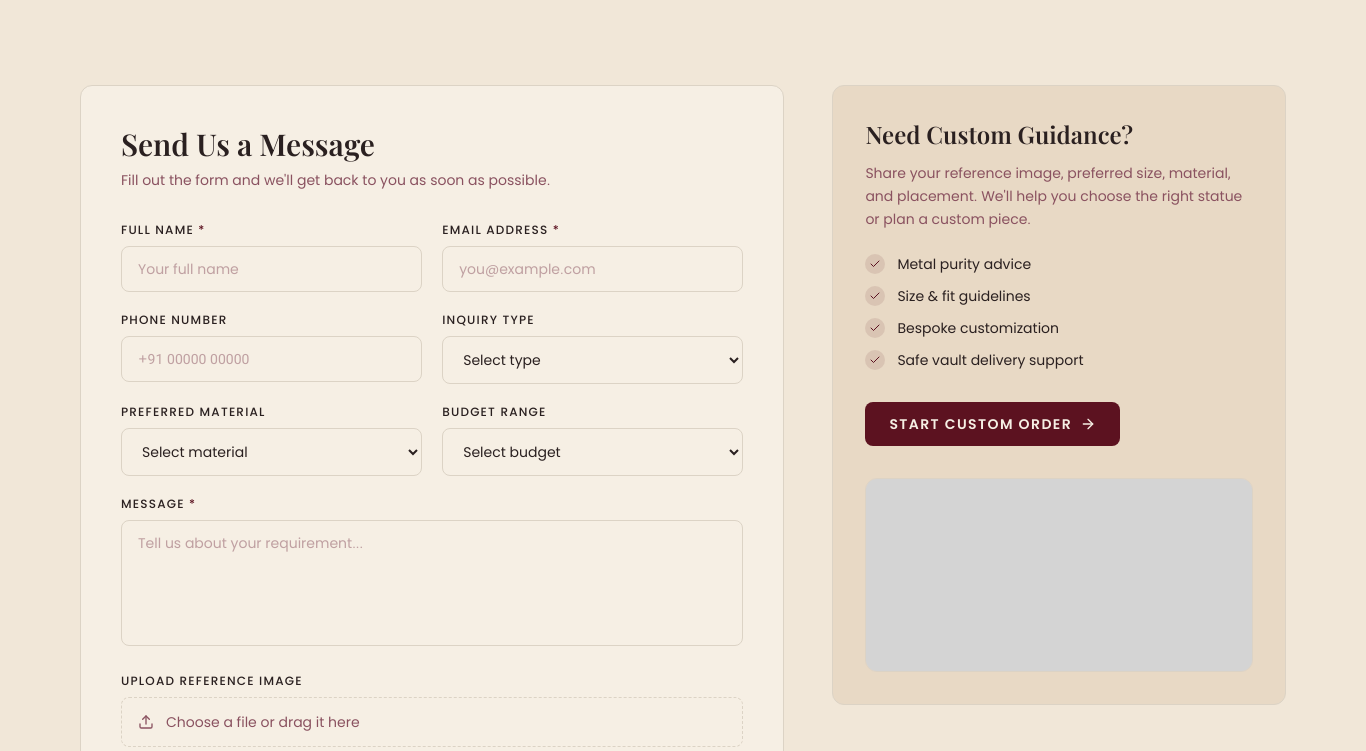
Test case: ContactForm › handles submission error and displays the error message
Type "Aswin Kumar" into the field labelled "Full Name *".
click(272, 269); type("Aswin Kumar")  # box [121, 246, 422, 292]
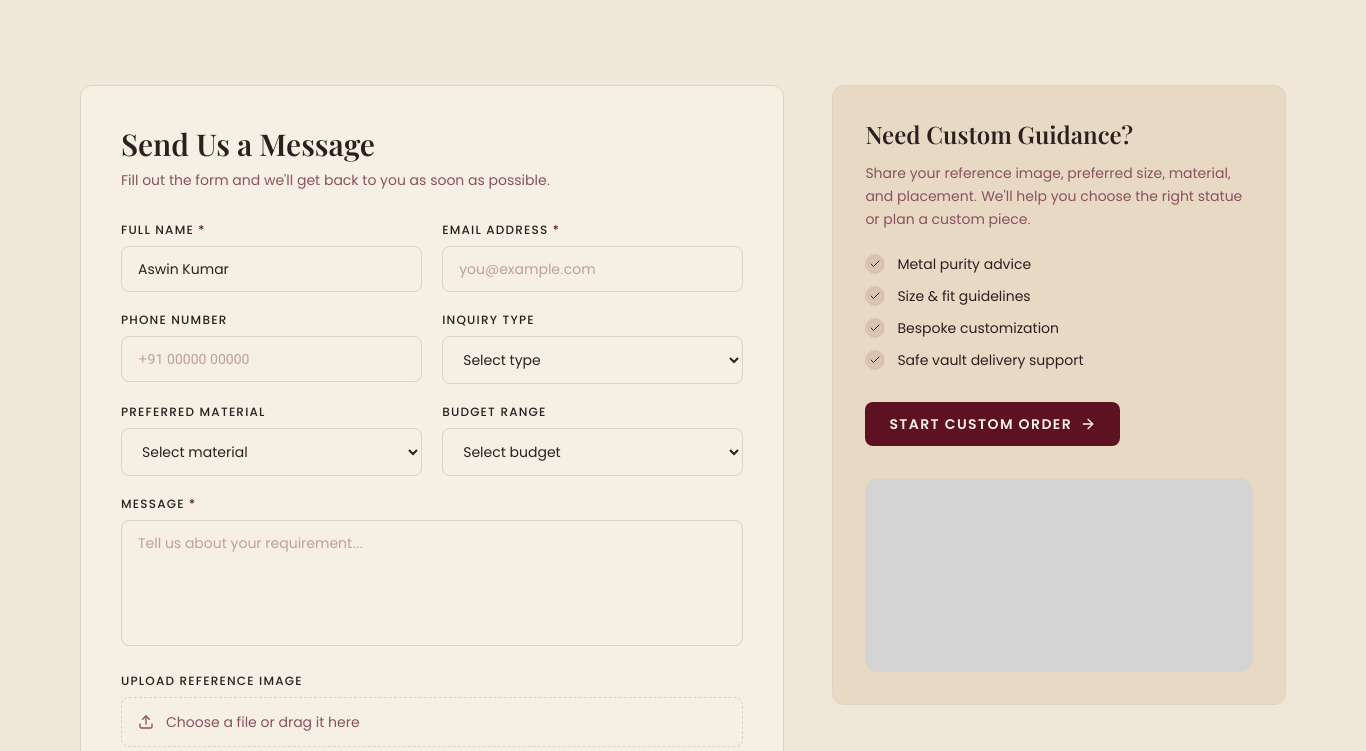
Type "aswin@example.com" into the field labelled "Email Address *".
click(593, 269); type("aswin@example.com")  # box [442, 246, 743, 292]
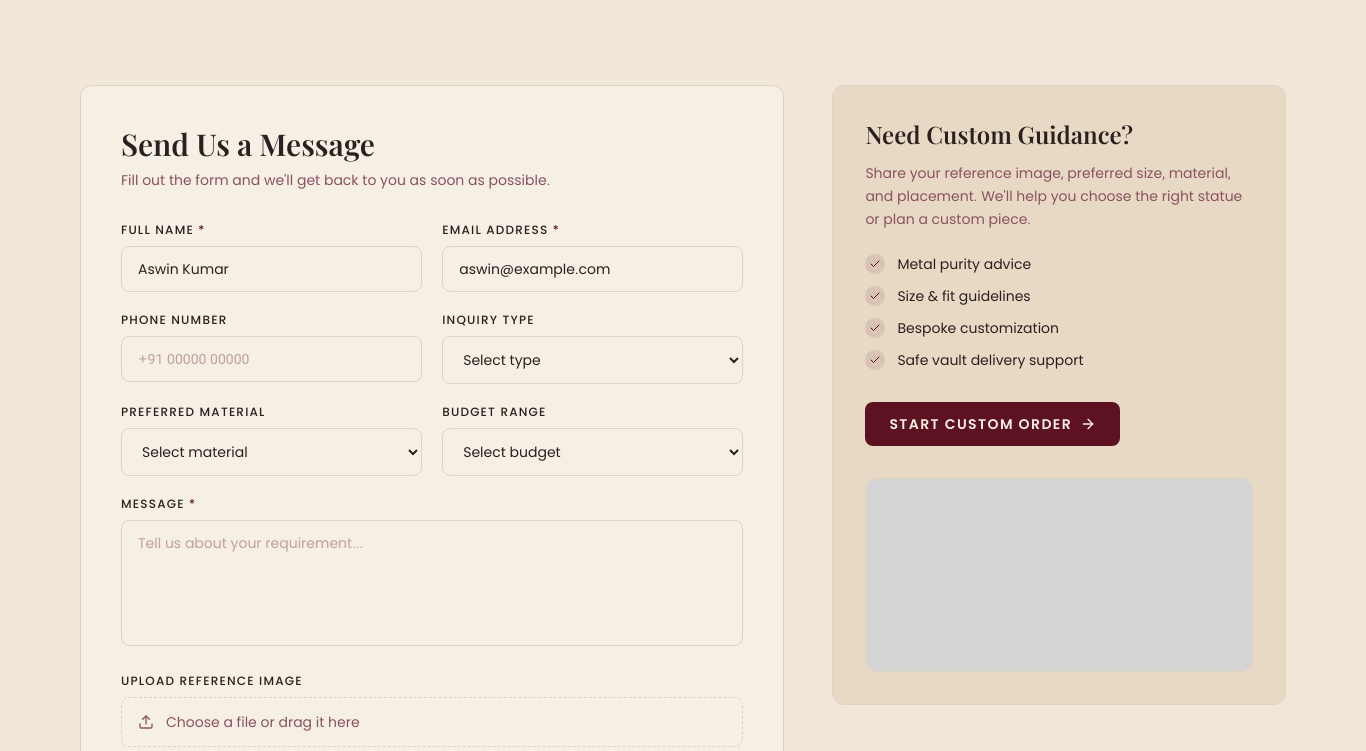
Type "Testing error handling." into the text box labelled "Message *".
click(432, 583); type("Testing error handling.")  # box [121, 520, 743, 646]
(page scrolled)
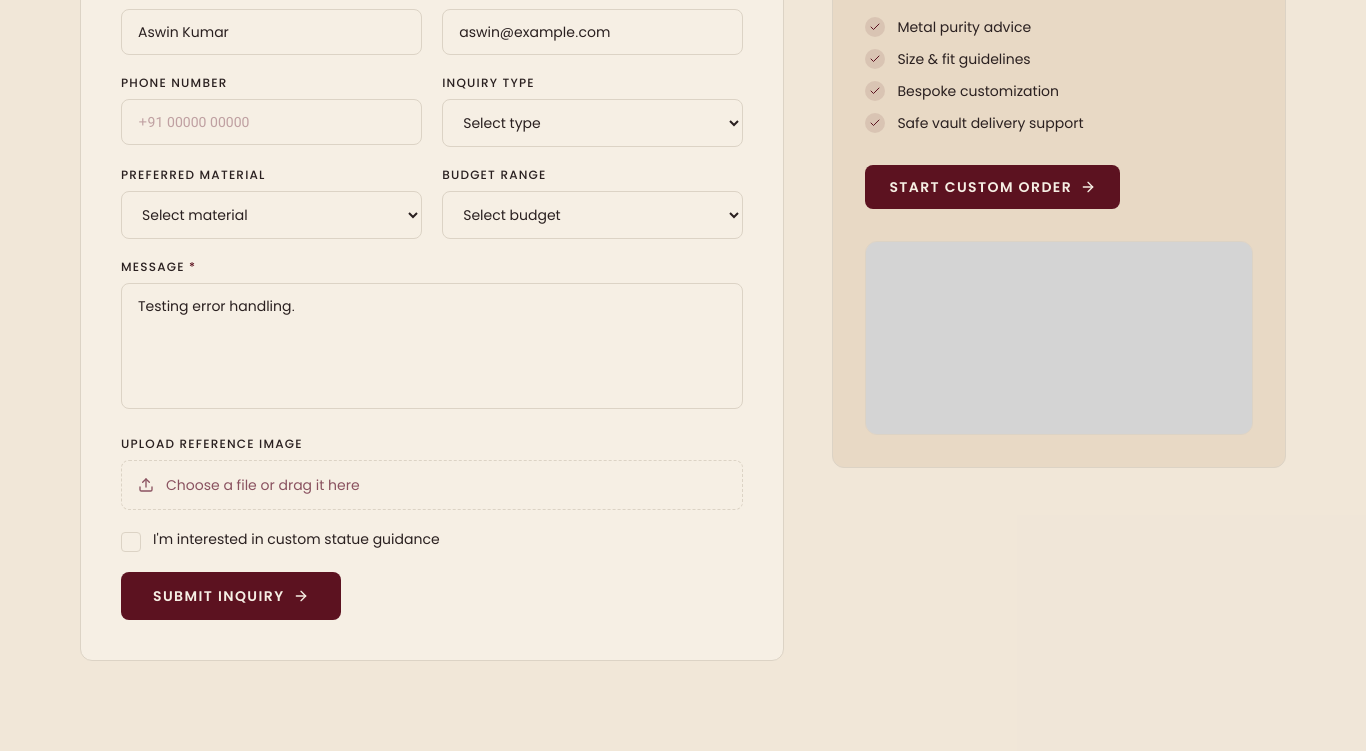
Click the button "Submit Inquiry".
click(231, 596)  # box [121, 572, 340, 620]
(page scrolled)
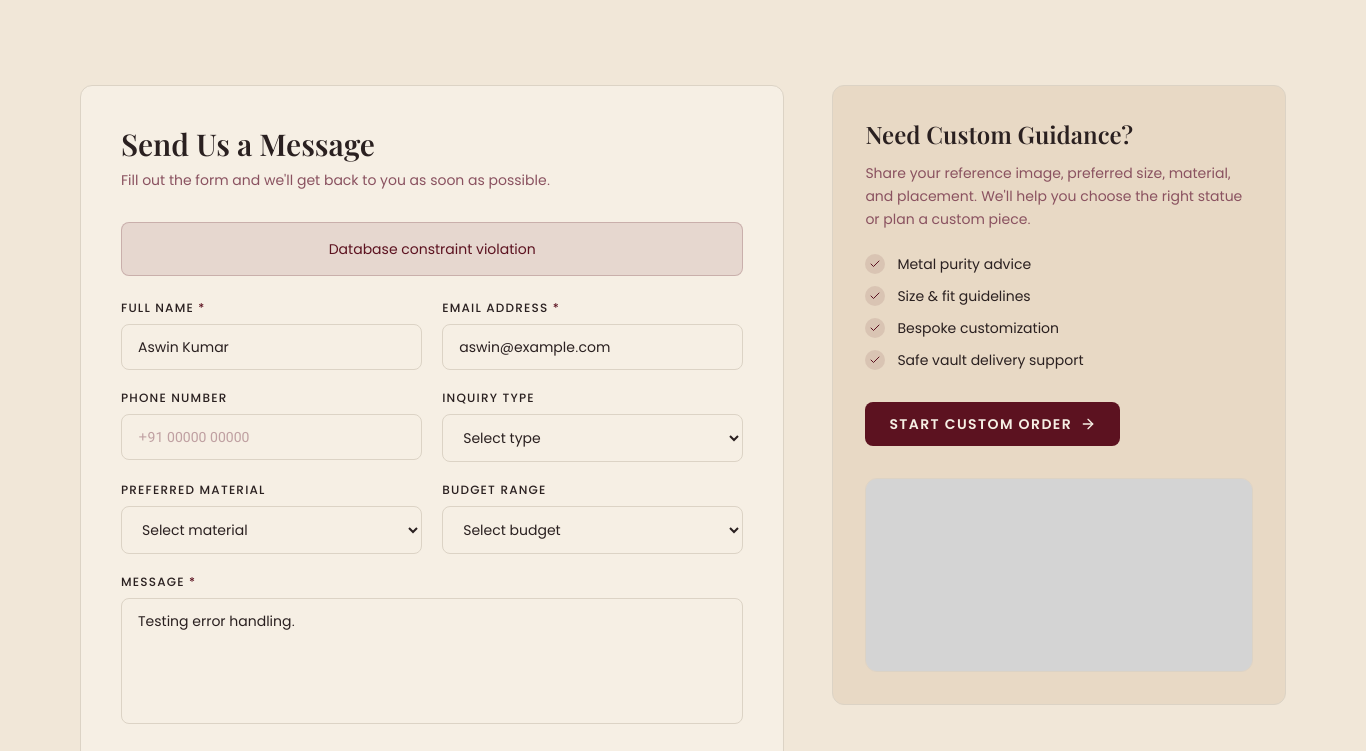
Check: the text "Database constraint violation" is shown, box [121, 222, 743, 276]
